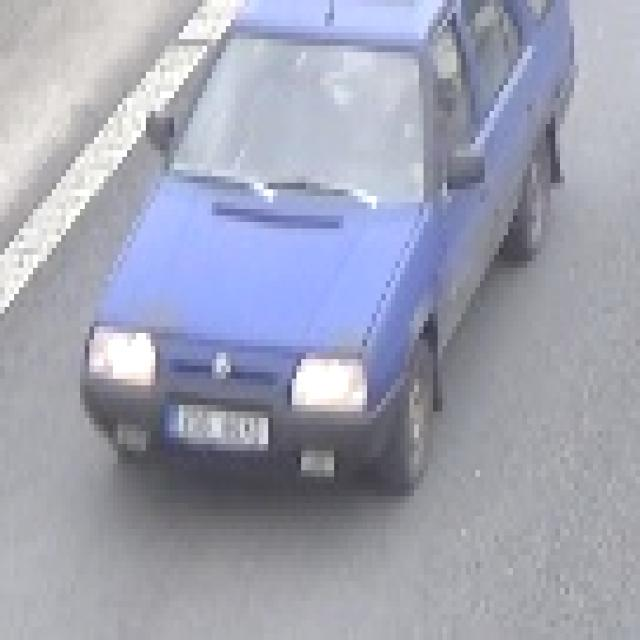blue: (78, 0, 572, 490)
